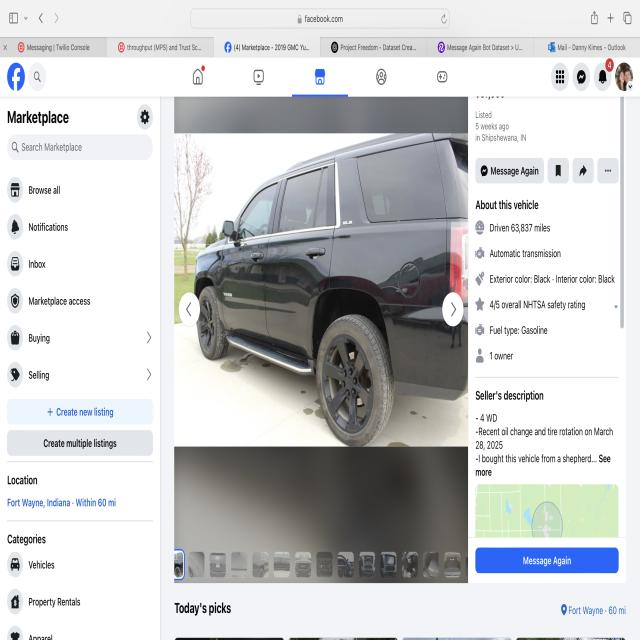message_button: (477, 549, 616, 571)
